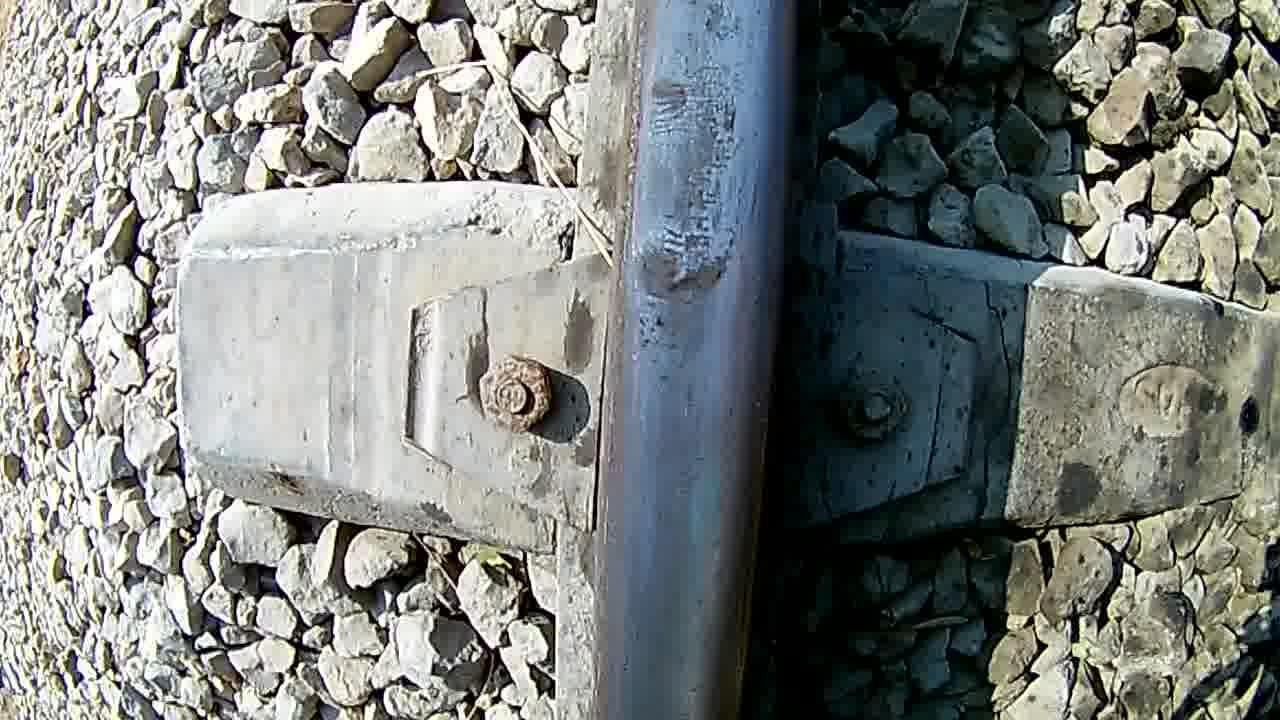crack: (598, 1, 781, 720)
